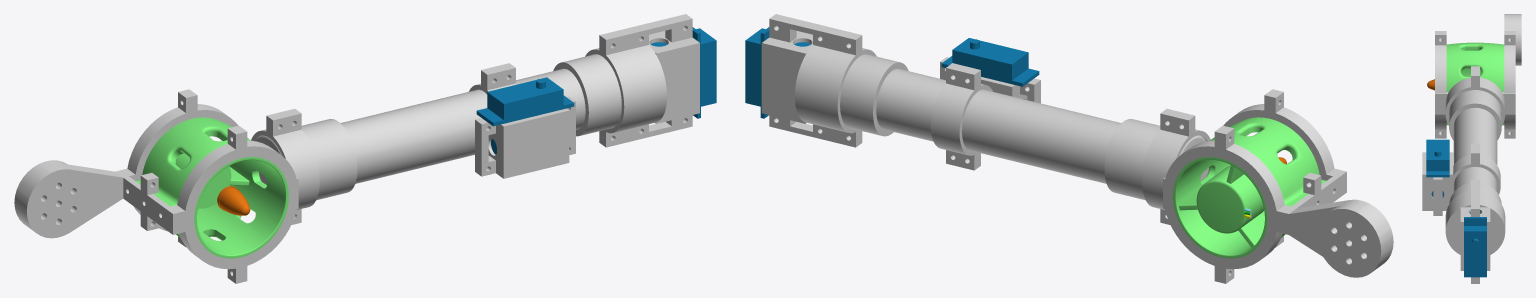
The picture shows the model from 3 angles, left to right: view 1: azimuth 30°, elevation 25°; view 2: azimuth 150°, elevation 25°; view 3: azimuth 270°, elevation 25°; orthographic projection. The views are drawn at different scales.
Visible parts, largest first — view 1: node13, node1, node12, node6, node11, node7, node8, node10, node9, node4; view 2: node13, node6, node1, node12, node11, node7, node8, node10, node9; view 3: node13, node12, node6, node1, node11, node9, node7, node10, node8.
Part boxes in pixels (left/top/right/bottom): node13: left=14, top=89, right=319, bottom=283; node1: left=135, top=117, right=288, bottom=258; node12: left=585, top=14, right=699, bottom=147; node6: left=340, top=68, right=585, bottom=183; node11: left=469, top=63, right=575, bottom=178; node7: left=256, top=119, right=357, bottom=200; node8: left=553, top=54, right=621, bottom=136; node10: left=476, top=77, right=574, bottom=154; node9: left=651, top=27, right=716, bottom=118; node4: left=217, top=186, right=250, bottom=215; node13: left=1142, top=89, right=1393, bottom=283; node6: left=876, top=68, right=1121, bottom=183; node1: left=1173, top=117, right=1326, bottom=258; node12: left=761, top=14, right=876, bottom=147; node11: left=931, top=57, right=1040, bottom=170; node7: left=1104, top=119, right=1205, bottom=200; node8: left=840, top=54, right=908, bottom=136; node10: left=941, top=38, right=1039, bottom=99; node9: left=745, top=27, right=810, bottom=118; node13: left=1435, top=14, right=1521, bottom=138; node12: left=1445, top=179, right=1505, bottom=283; node6: left=1453, top=107, right=1497, bottom=191; node1: left=1446, top=42, right=1504, bottom=125; node11: left=1422, top=143, right=1500, bottom=215; node9: left=1464, top=212, right=1486, bottom=277; node7: left=1449, top=90, right=1501, bottom=140; node10: left=1426, top=139, right=1449, bottom=196; node8: left=1449, top=182, right=1501, bottom=203.
Size of the model in its own units: 0.4663 by 0.1 by 0.0863.
